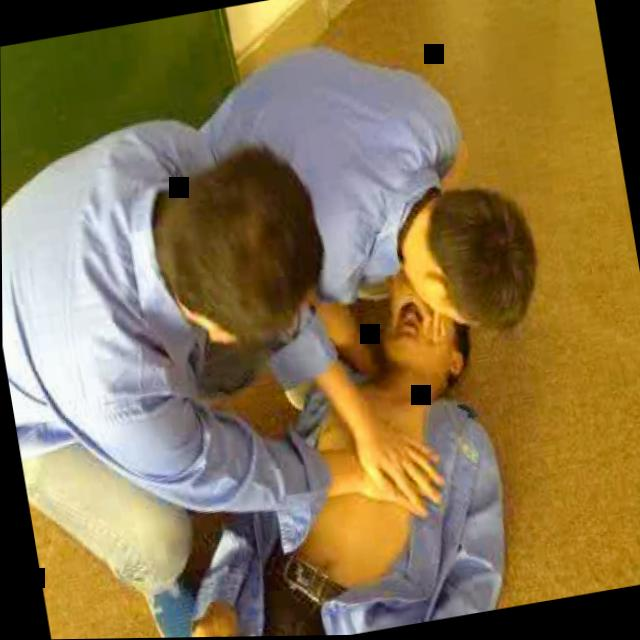Fall-Detected: (88, 250, 533, 639)
